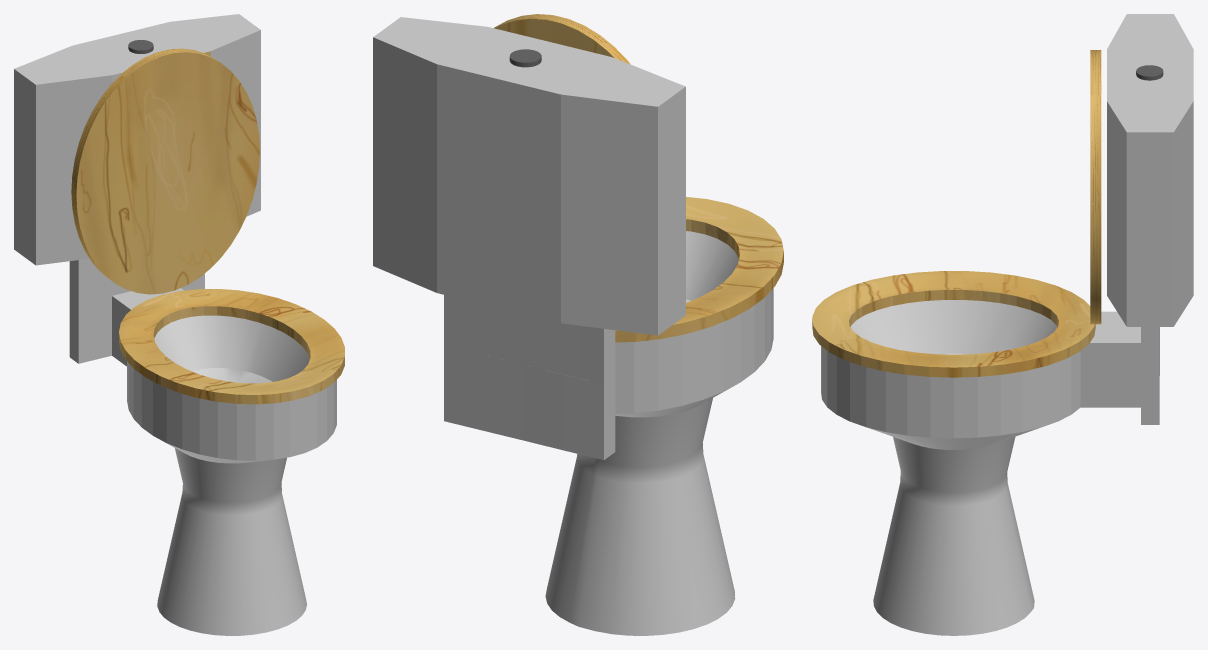
File: toilet open.fbx
3 renders of one model, left to right at view 1: azimuth 30°, elevation 25°; view 2: azimuth 150°, elevation 25°; view 3: azimuth 270°, elevation 25°, orthographic. The views are drawn at different scales.
Visible parts, largest first — view 1: pCylinder18; view 2: pCylinder18; view 3: pCylinder18.
Boxes of the visible parts, x1,y1,x2,y2 form: pCylinder18: (14,14,344,635); pCylinder18: (373,14,783,635); pCylinder18: (812,14,1193,635).
Size of the model in its own units: 3.49 by 7.47 by 4.76.
Materials: 4 (1 with a texture image).
